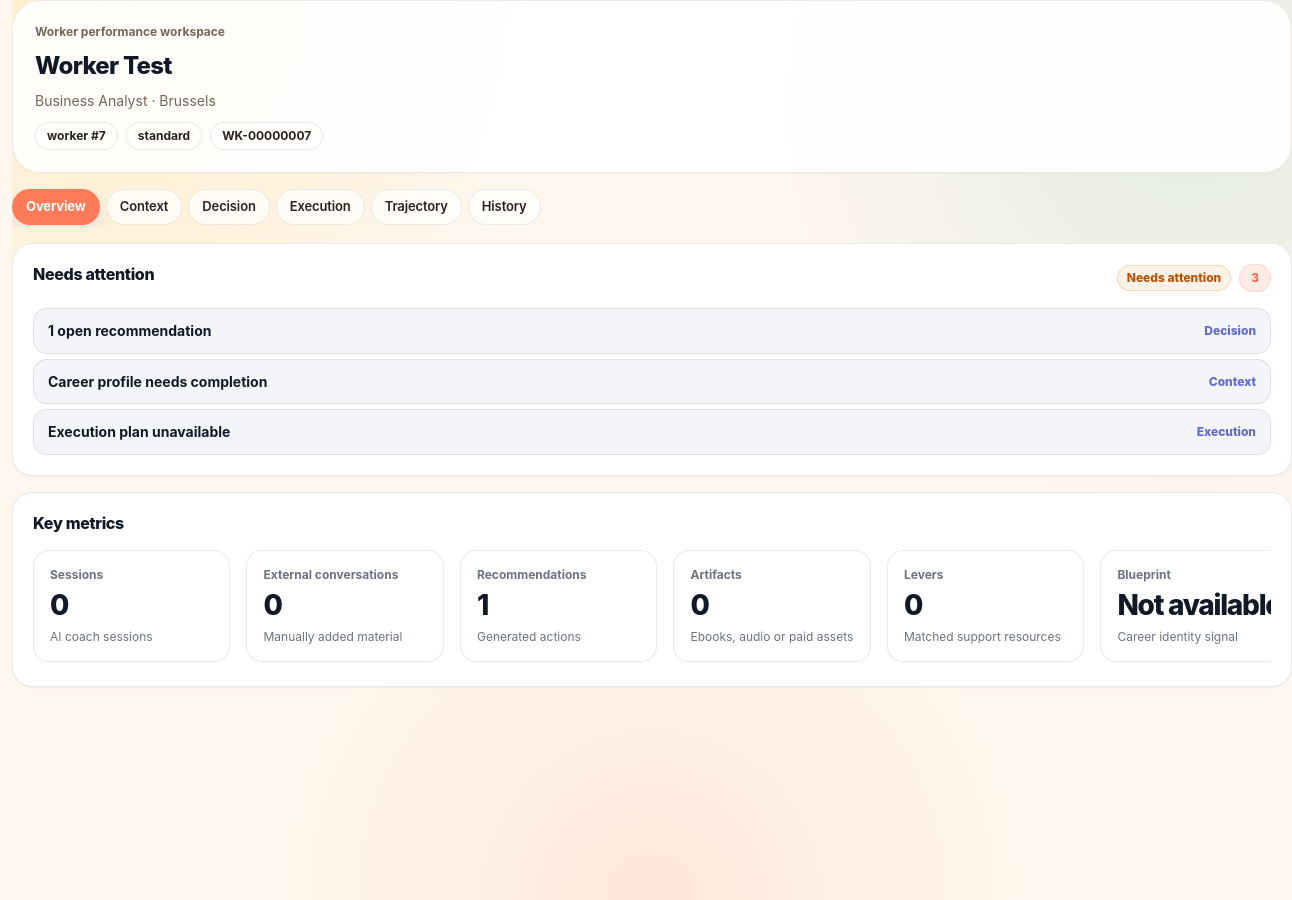
Test: OrganizationInsightsTab recommendation completion › moves worker recommendations out of Overview and into Decision
Check: the text "Clarify positioning" is not shown
What coordinates should you click on to do the following:
click the tab "Decision"
I would click on:
 (229, 207)
Its box is [188, 189, 270, 225].
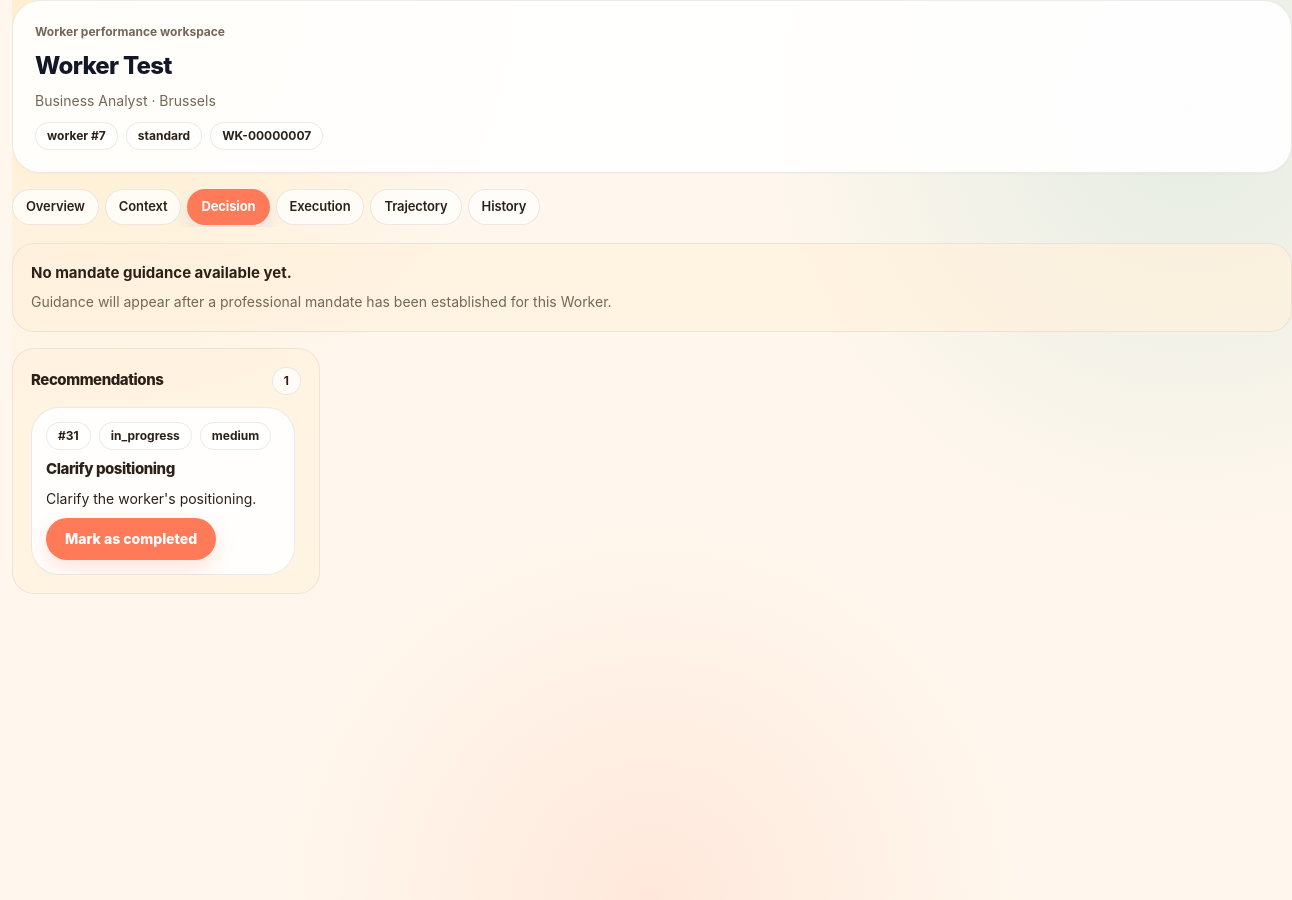
Check: the text "Clarify positioning" is shown, box [46, 459, 175, 478]
